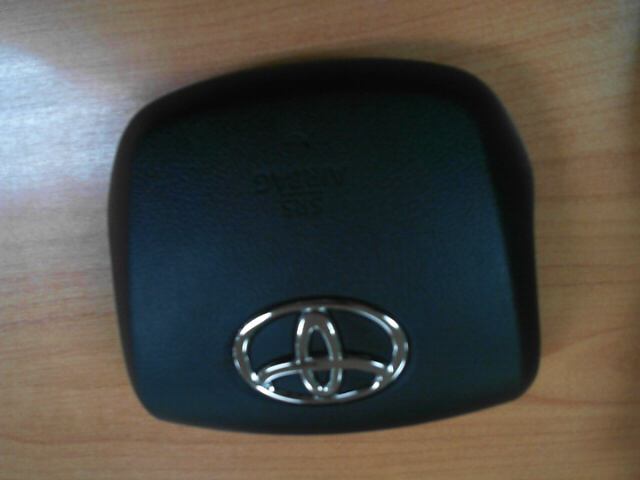AirbagV2: (110, 58, 539, 437)
